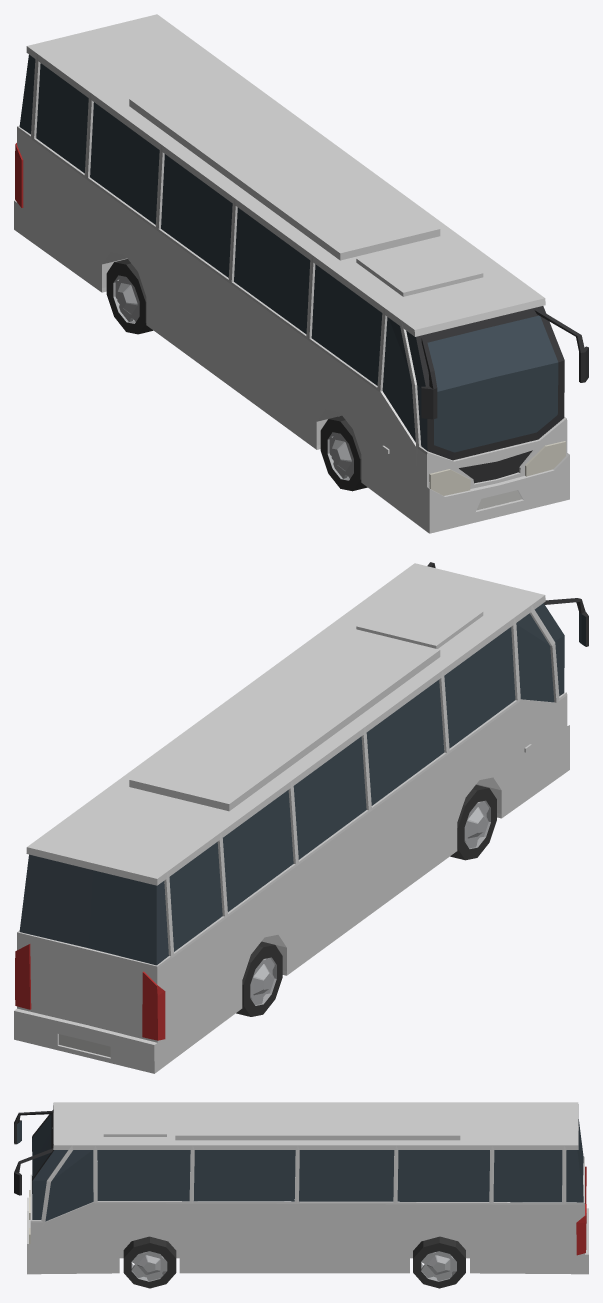
Rendered from bus.glb.
3 renders of one model, top to bottom at view 1: azimuth 30°, elevation 25°; view 2: azimuth 150°, elevation 25°; view 3: azimuth 270°, elevation 25°, orthographic. The views are drawn at different scales.
Parts seen in each view (by area): view 1: paint, fixed; view 2: paint, fixed; view 3: paint, fixed.
Part boxes in pixels (x1,y1,x2,y2): paint: (14, 14, 569, 533); fixed: (15, 54, 588, 510); paint: (14, 563, 569, 1073); fixed: (15, 562, 588, 1057); paint: (27, 1102, 588, 1274); fixed: (14, 1110, 586, 1288).
Size of the model in its own units: 2.5 by 3.1 by 11.
